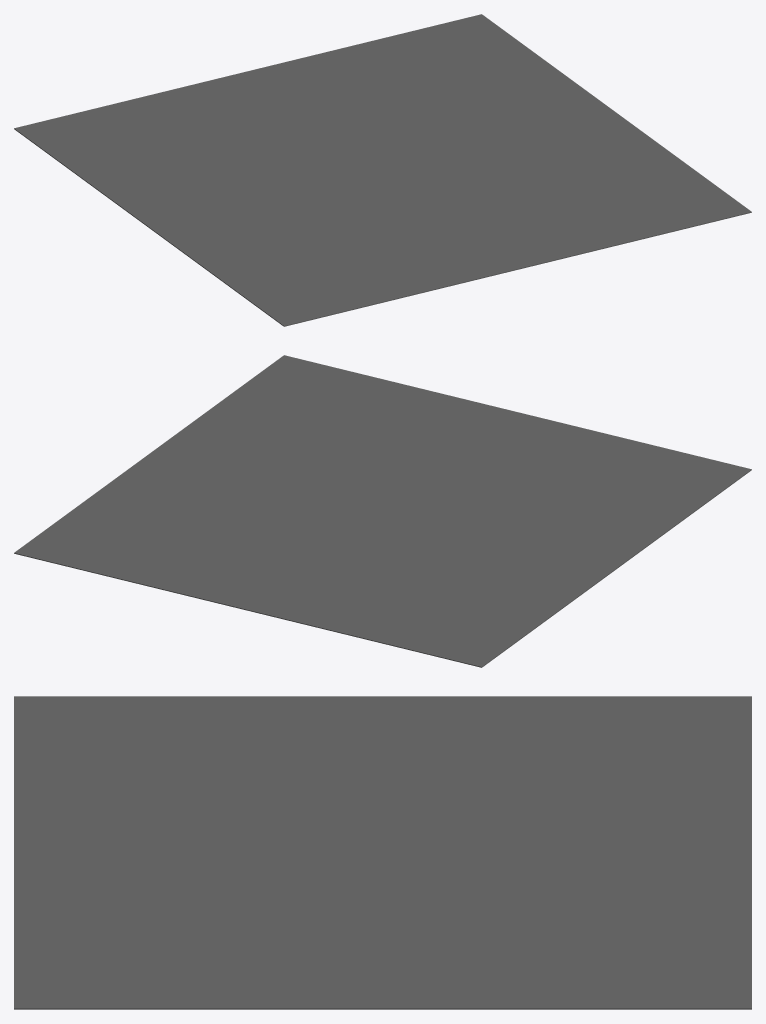
The model's file is ConcreteTile.fbx.
3 views of the same model, one above another, from view 1: azimuth 30°, elevation 25°; view 2: azimuth 150°, elevation 25°; view 3: azimuth 270°, elevation 25° (orthographic). The views are drawn at different scales.
Parts seen in each view (by area): view 1: Cube; view 2: Cube; view 3: Cube.
Part boxes in pixels (x1,y1,x2,y2): Cube: (14, 14, 751, 326); Cube: (14, 355, 751, 667); Cube: (14, 696, 751, 1009).
Bounding box in the file's own units: 3000 × 5 × 3000.
